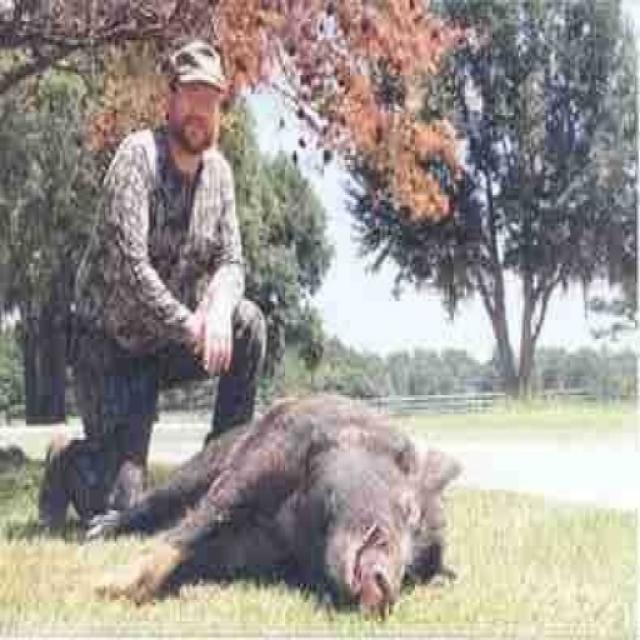pig: (160, 366, 499, 635)
